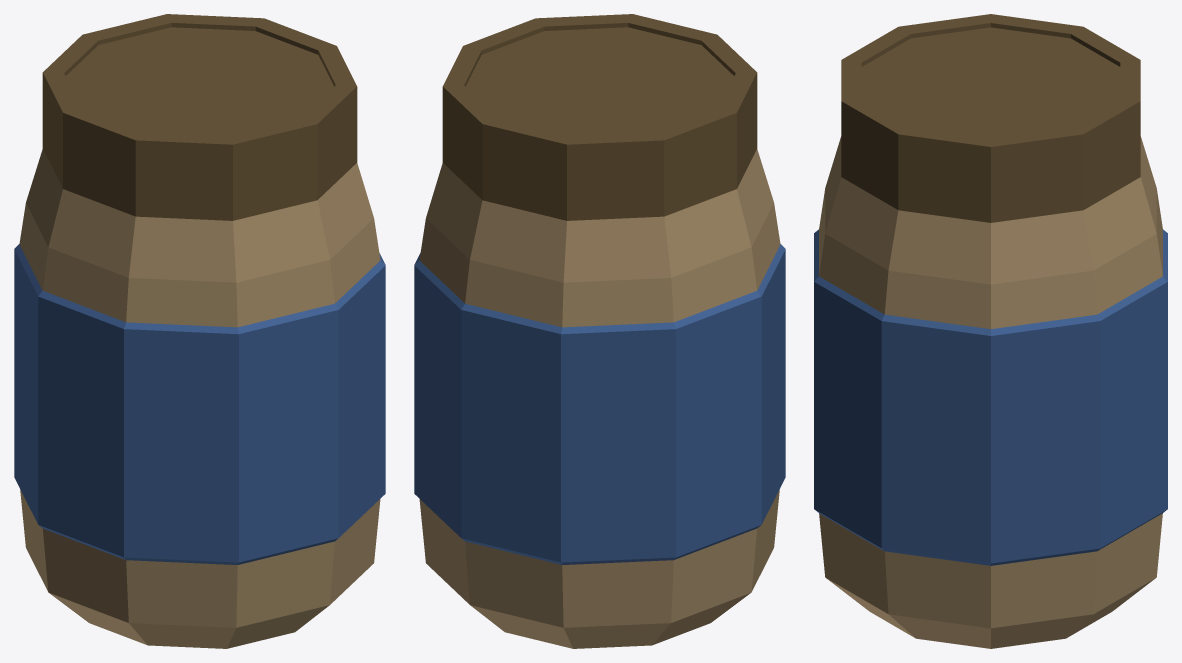
The model's file is PeanutButter_2.glb.
3 renders of one model, left to right at view 1: azimuth 30°, elevation 25°; view 2: azimuth 150°, elevation 25°; view 3: azimuth 270°, elevation 25°, orthographic.
Parts seen in each view (by area): view 1: PeanutButter_2; view 2: PeanutButter_2; view 3: PeanutButter_2.
Boxes of the visible parts, <box> form: PeanutButter_2: <box>14,14,385,648</box>; PeanutButter_2: <box>414,14,785,648</box>; PeanutButter_2: <box>814,14,1167,648</box>.
Size of the model in its own units: 0.0816 by 0.1246 by 0.0776.
